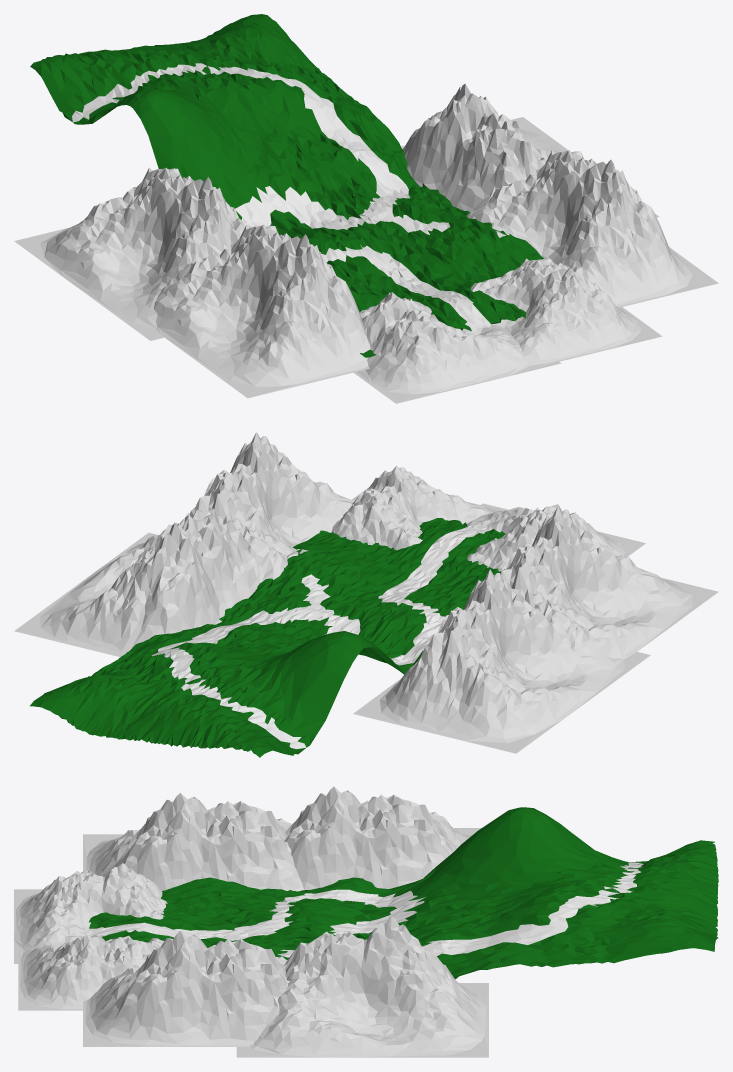
Rendered from plano.fbx.
3 renders of one model, top to bottom at view 1: azimuth 30°, elevation 25°; view 2: azimuth 150°, elevation 25°; view 3: azimuth 270°, elevation 25°, orthographic. The views are drawn at different scales.
Parts seen in each view (by area): view 1: Plane, Landscape.003, Landscape.006, Landscape.004, Landscape.001, Plane.001, Landscape.005, Landscape.002; view 2: Plane, Landscape.004, Landscape.005, Landscape.003, Landscape.006, Plane.001, Landscape.002, Landscape.001; view 3: Plane, Landscape.005, Landscape.006, Landscape.003, Landscape.004, Landscape.001, Plane.001, Landscape.002.
Part boxes in pixels (bbox=[...]): Plane: bbox=[30, 14, 543, 357]; Landscape.003: bbox=[154, 225, 370, 398]; Landscape.006: bbox=[466, 150, 718, 307]; Landscape.004: bbox=[14, 167, 250, 340]; Landscape.001: bbox=[354, 292, 561, 403]; Plane.001: bbox=[72, 63, 491, 331]; Landscape.005: bbox=[401, 83, 659, 217]; Landscape.002: bbox=[462, 258, 662, 370]; Plane: bbox=[30, 518, 505, 757]; Landscape.004: bbox=[353, 569, 650, 753]; Landscape.005: bbox=[14, 508, 259, 656]; Landscape.003: bbox=[500, 506, 718, 658]; Landscape.006: bbox=[189, 432, 354, 582]; Plane.001: bbox=[152, 525, 490, 748]; Landscape.002: bbox=[331, 465, 503, 550]; Landscape.001: bbox=[466, 503, 645, 571]; Plane: bbox=[89, 807, 718, 979]; Landscape.005: bbox=[236, 916, 488, 1057]; Landscape.006: bbox=[83, 931, 289, 1046]; Landscape.003: bbox=[83, 793, 304, 891]; Landscape.004: bbox=[284, 786, 481, 889]; Landscape.001: bbox=[14, 863, 167, 963]; Plane.001: bbox=[87, 862, 643, 957]; Landscape.002: bbox=[18, 934, 164, 1010].
Bounding box in the file's own units: 34432 × 6736 × 44669.
